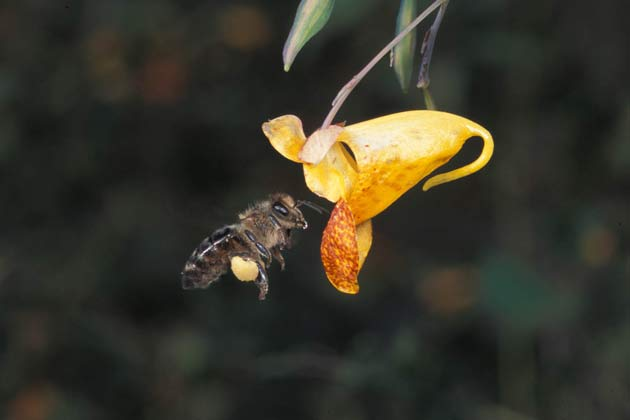insect: (178, 191, 318, 298)
